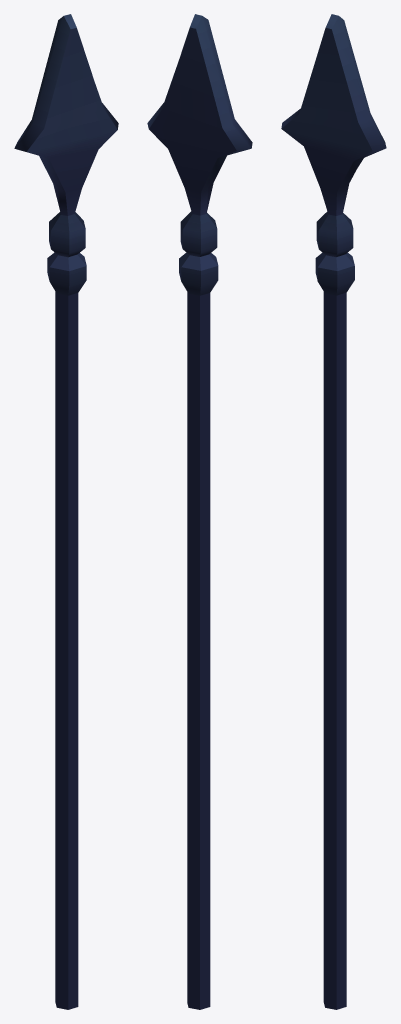
The model's file is Iron_Fence_Spear.fbx.
3 renders of one model, left to right at view 1: azimuth 30°, elevation 25°; view 2: azimuth 150°, elevation 25°; view 3: azimuth 330°, elevation 25°, orthographic.
Parts seen in each view (by area): view 1: Iron_Fence_Spear; view 2: Iron_Fence_Spear; view 3: Iron_Fence_Spear.
Part boxes in pixels (left/top/right/bottom): Iron_Fence_Spear: left=14, top=14, right=118, bottom=1009; Iron_Fence_Spear: left=147, top=14, right=252, bottom=1009; Iron_Fence_Spear: left=281, top=14, right=386, bottom=1009.
Size of the model in its own units: 1.18 by 10.73 by 0.3877.
